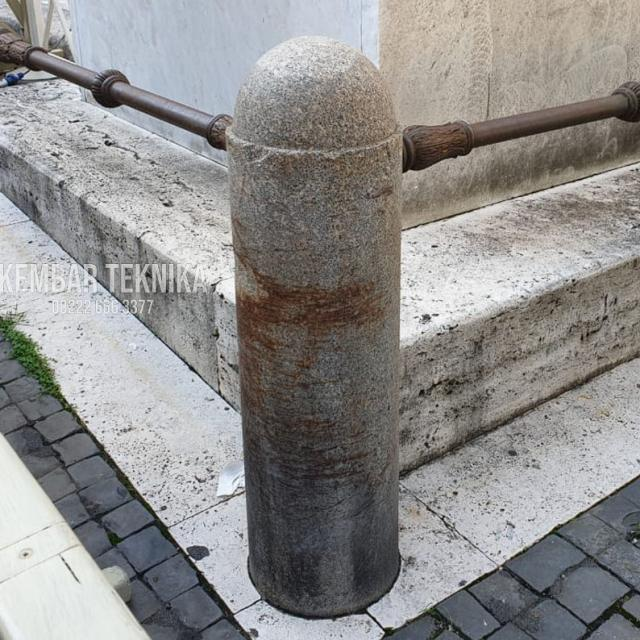Bollard: (222, 35, 410, 616)
